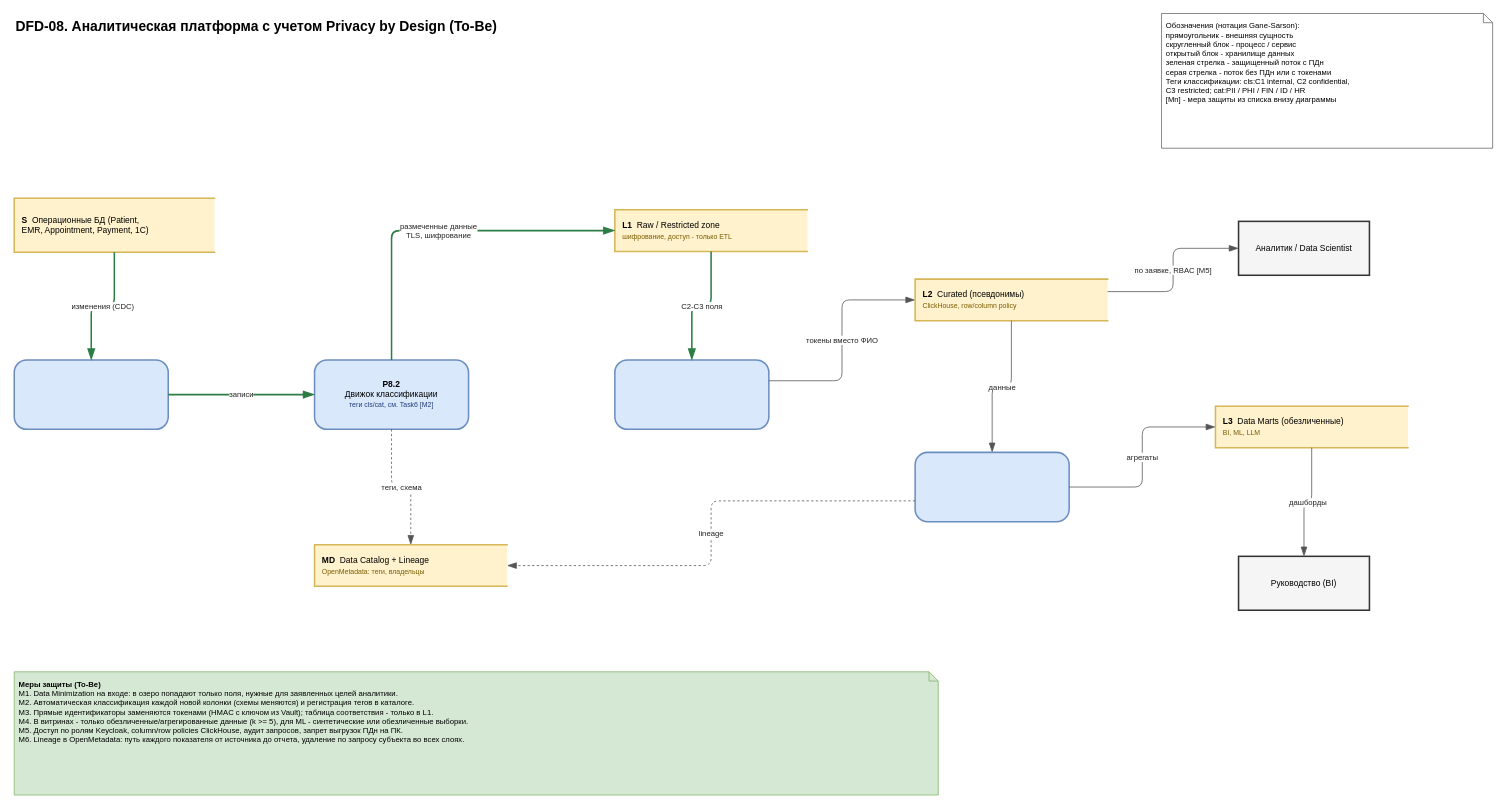
Some shapes in this 1506 by 809 pixel diagram are drawn without their labels. The centre of each missing label's shape, as x and y in pixels:
P8.1 Загрузка (CDC / NiFi) только разрешенные поля [М1]: the point at 91,394
P8.3 Псевдонимизация / маскирование [М3]: the point at 691,394
P8.4 Обезличивание (k-anonymity, агрегаты) [М4]: the point at 992,486
